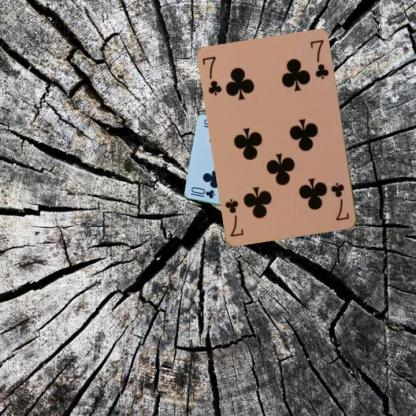10c: (188, 184, 216, 200)
7c: (200, 54, 224, 97), (328, 180, 351, 223)
